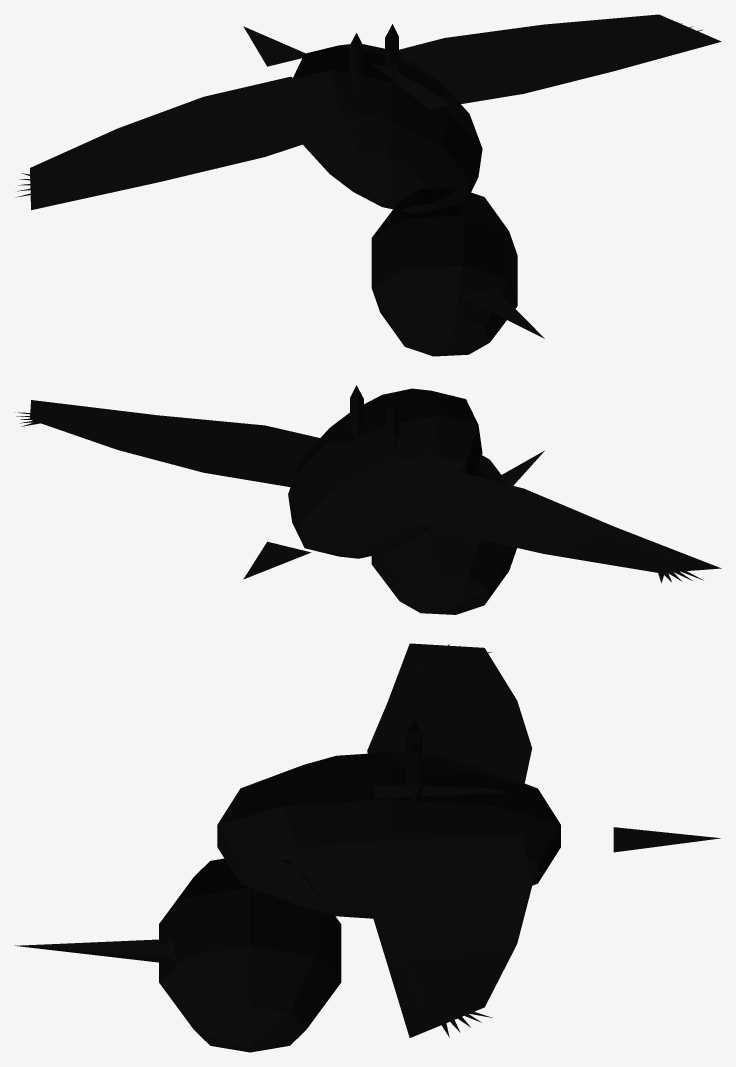
The model's file is gliding_07.glb.
3 views of the same model, one above another, from view 1: azimuth 30°, elevation 25°; view 2: azimuth 150°, elevation 25°; view 3: azimuth 270°, elevation 25° (orthographic). The views are drawn at different scales.
Parts seen in each view (by area): view 1: BirdBody; view 2: BirdBody; view 3: BirdBody.
Part boxes in pixels (left/top/right/bottom): BirdBody: left=15, top=14, right=721, bottom=356; BirdBody: left=15, top=385, right=721, bottom=614; BirdBody: left=14, top=643, right=720, bottom=1052.
Bounding box in the file's own units: 1.11 × 0.42 × 0.843.
Materials: 1 (1 with a texture image).
